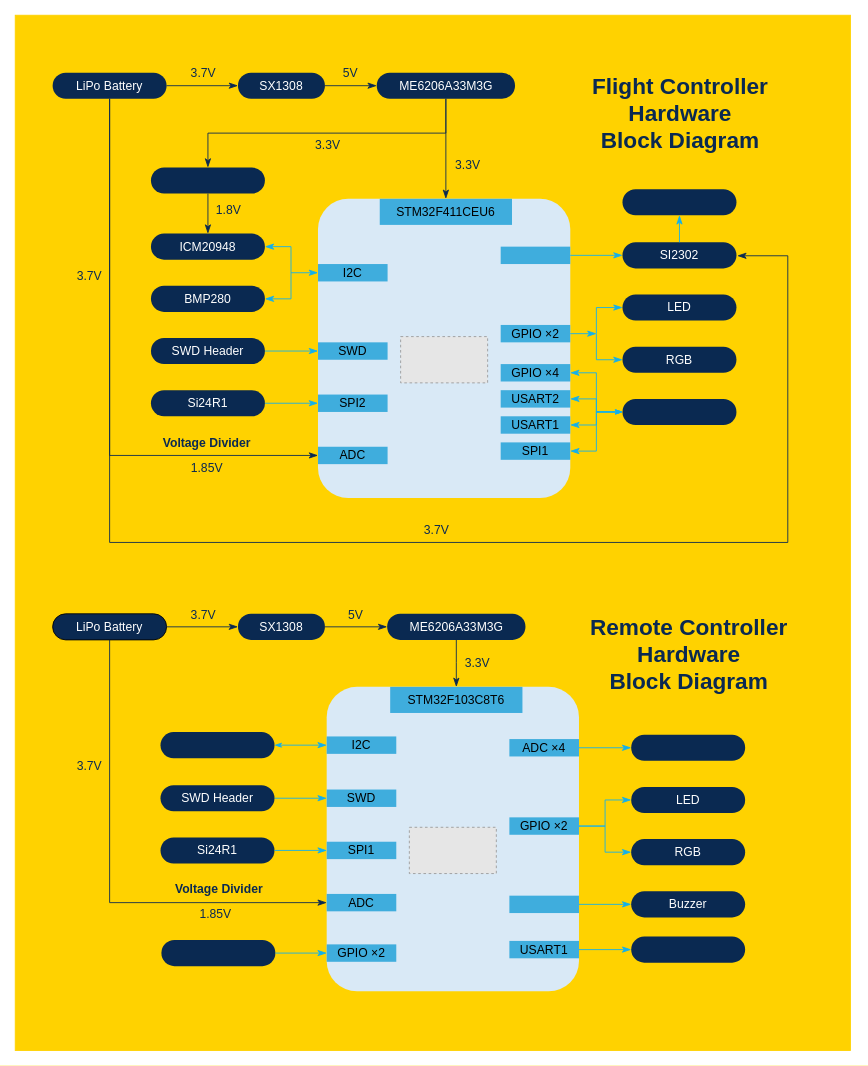
Image size: 868x1066. Some labels were removed from this diagram. Grey dashed boxes stand in for pictures. Here are the shapes that lost their labels. From the top down, the centre of each, then its label:
the point at 207,180: XC6206P182MR
the point at 679,202: 720 Motors
the point at 535,255: PWM ×4
the point at 679,411: Expansion Ports
the point at 217,745: OLED
the point at 688,747: Joystick ×2
the point at 544,904: GPIO ×1
the point at 218,953: Button ×6
the point at 688,949: CH340N
